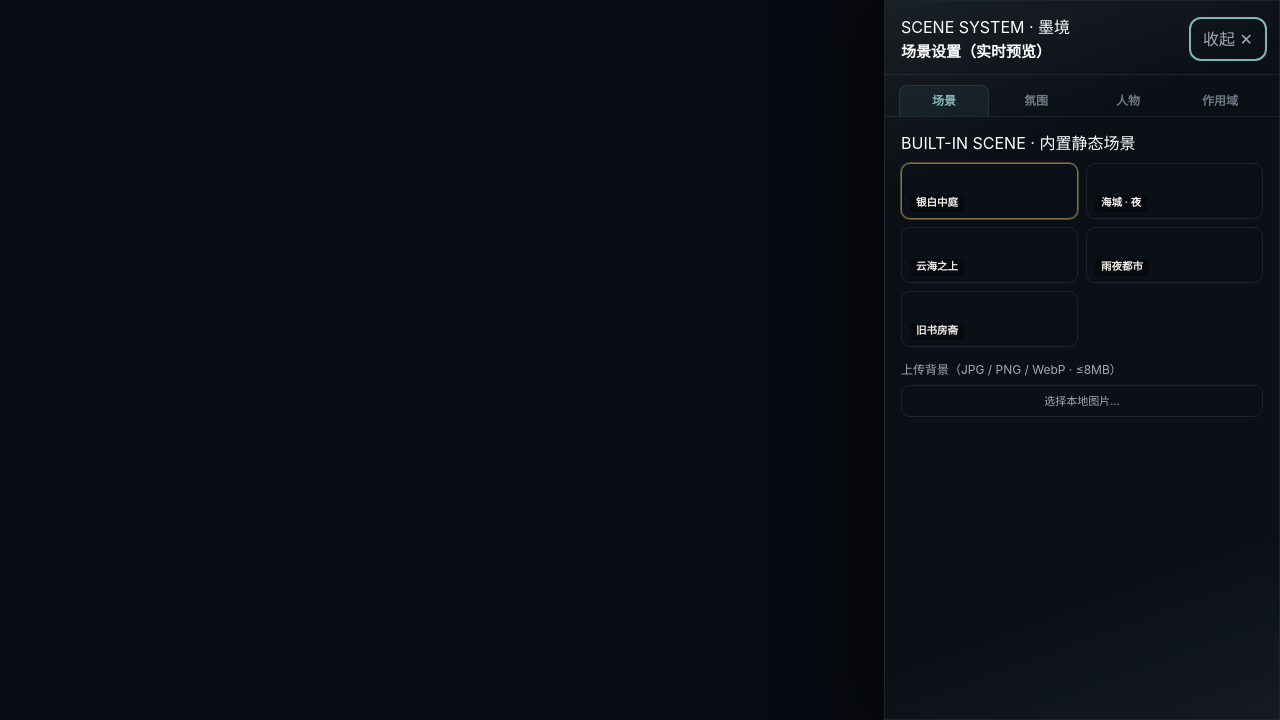
it: SceneSettingsSheet（四分区 · 上传校验 · 作用域） › 无覆盖时删除按钮禁用（诚实空态）
Click the tab "作用域" at (1220, 100), box [1175,84,1265,116]
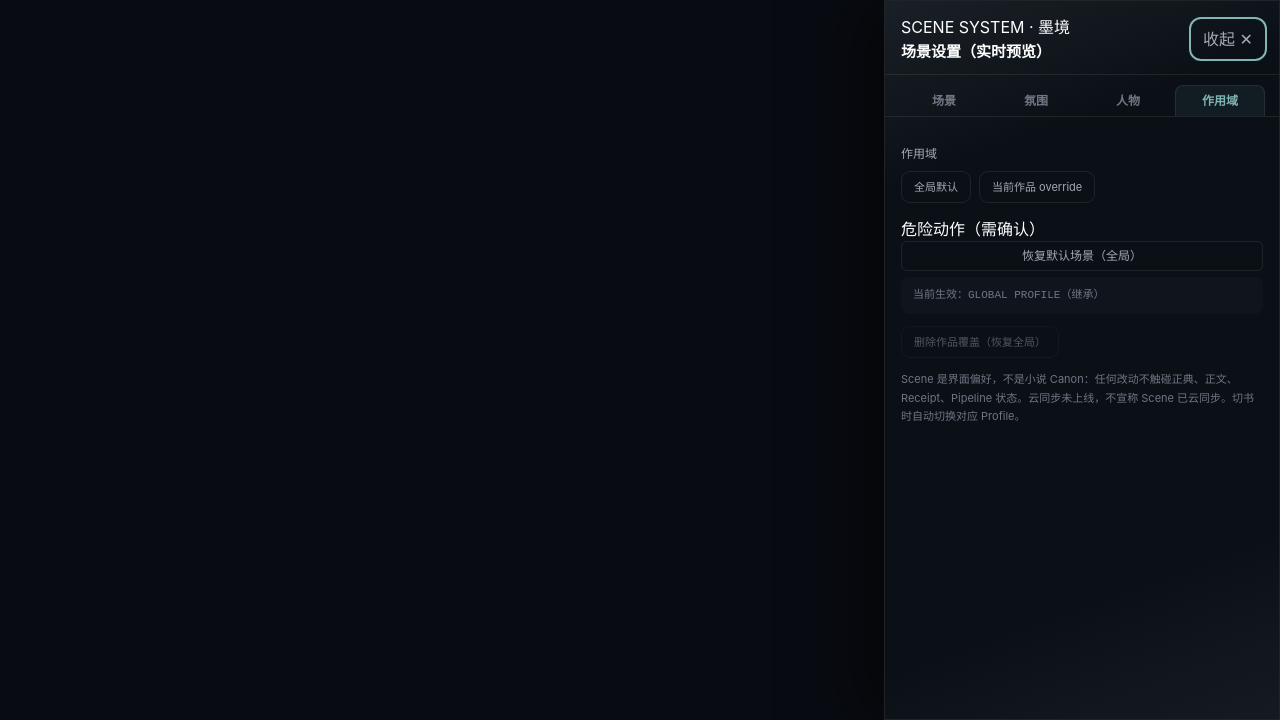
Expected: the button with test id "scene-clear-override" is disabled, [901,326,1059,358]
